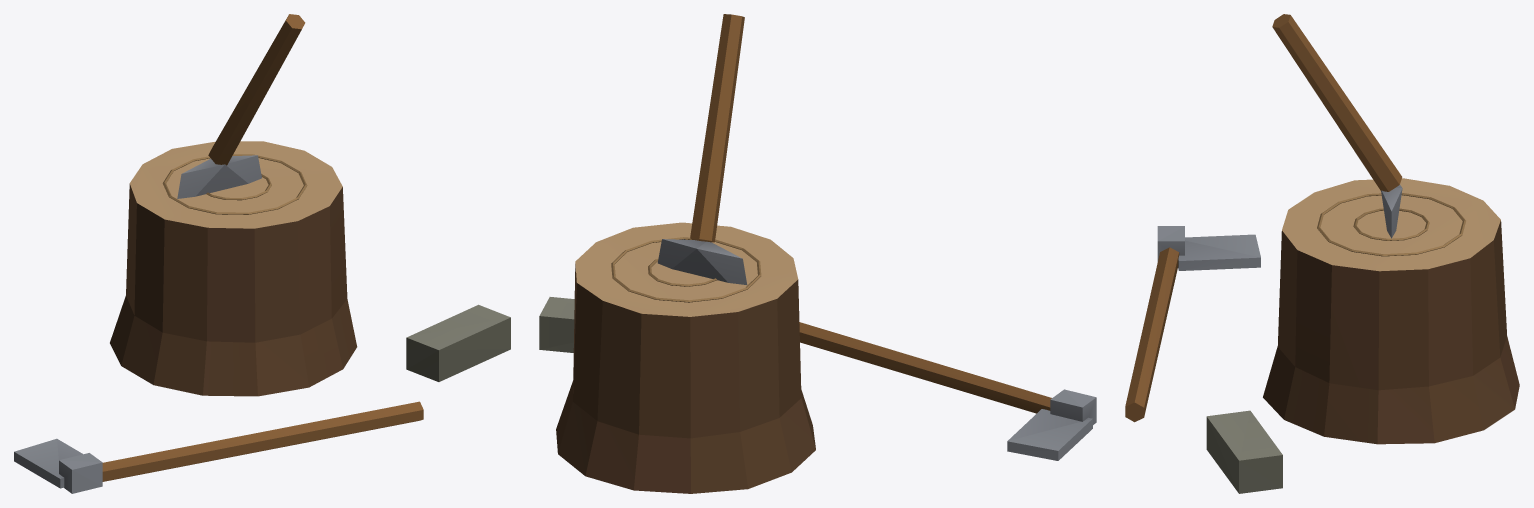
3 views of the same model, side by side, from view 1: azimuth 30°, elevation 25°; view 2: azimuth 150°, elevation 25°; view 3: azimuth 270°, elevation 25° (orthographic). The views are drawn at different scales.
Parts seen in each view (by area): view 1: base; view 2: base; view 3: base.
Boxes of the visible parts, x1=… form: base: x1=14, y1=14, x2=510, y2=493; base: x1=539, y1=14, x2=1096, y2=493; base: x1=1125, y1=14, x2=1519, y2=493.
Bounding box in the file's own units: 0.6391 × 0.4561 × 0.43.
